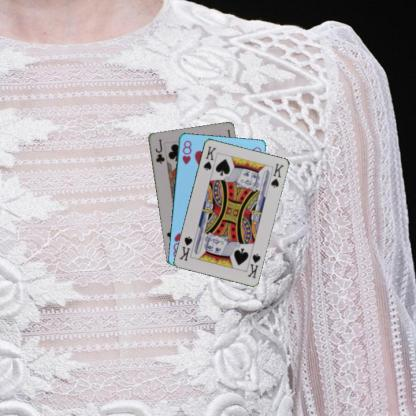8h: (180, 138, 192, 165)
Jc: (152, 136, 166, 165)
Ks: (200, 143, 218, 172), (245, 251, 262, 279)
